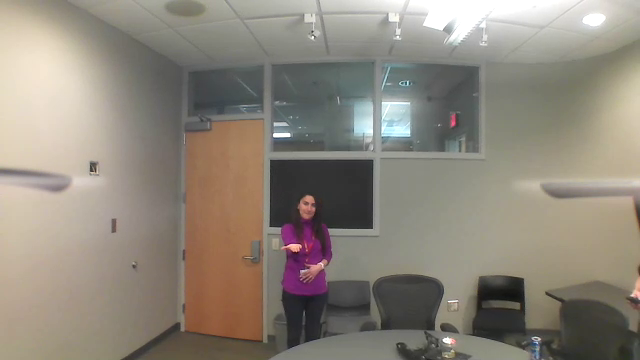land: (276, 240, 304, 257)
